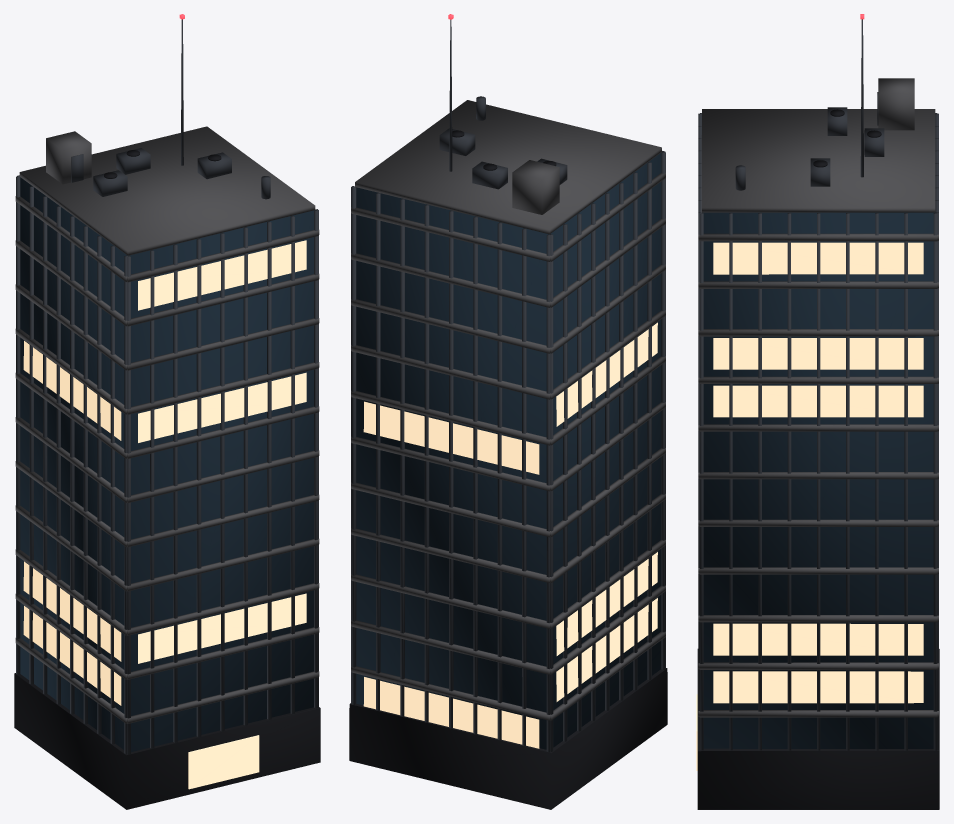
File: kit_office_tower_lod1.glb
3 renders of one model, left to right at view 1: azimuth 30°, elevation 25°; view 2: azimuth 150°, elevation 25°; view 3: azimuth 270°, elevation 25°, orthographic. The views are drawn at different scales.
Visible parts, largest first — view 1: office_tower_LOD1; view 2: office_tower_LOD1; view 3: office_tower_LOD1.
Part boxes in pixels (x1=…): office_tower_LOD1: x1=14, y1=14, x2=320, y2=809; office_tower_LOD1: x1=349, y1=14, x2=667, y2=809; office_tower_LOD1: x1=696, y1=14, x2=939, y2=809.
Size of the model in its own units: 16.56 by 57.64 by 16.66.
Materials: 6 (6 with a texture image).
